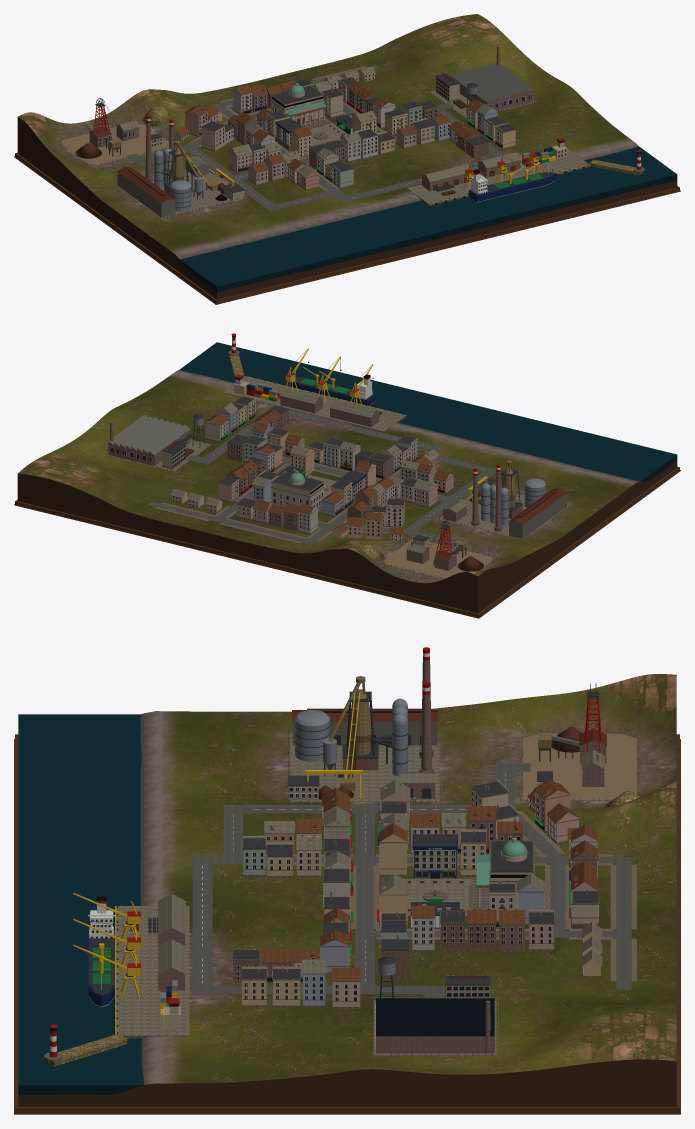
File: makieta.glb
The picture shows the model from 3 angles, top to bottom: view 1: azimuth 30°, elevation 25°; view 2: azimuth 150°, elevation 25°; view 3: azimuth 270°, elevation 25°; orthographic projection. The views are drawn at different scales.
Parts seen in each view (by area): view 1: teren, domy_centrum, morze, cokol, STW, BPT, drogi, MTK, RUD, GIELDA, statek, domy_przedmiescie (+3 smaller); view 2: teren, cokol, domy_centrum, morze, drogi, STW, MTK, BPT, RUD, GIELDA, statek, domy_przedmiescie; view 3: teren, morze, domy_centrum, cokol, drogi, STW, BPT, MTK, RUD, GIELDA, statek, GRS (+3 smaller).
Part boxes in pixels (x1,y1,x2,y2): teren: (18,14,638,259); domy_centrum: (185,76,516,190); morze: (180,146,676,286); cokol: (14,117,680,304); STW: (114,115,247,218); BPT: (407,137,592,206); drogi: (126,65,505,211); MTK: (428,46,538,118); RUD: (56,101,174,166); GIELDA: (270,83,331,129); statek: (468,162,555,202); domy_przedmiescie: (174,66,375,142); teren: (18,370,639,583); cokol: (14,455,680,618); domy_centrum: (205,396,453,539); morze: (179,342,676,481); drogi: (147,410,496,549); STW: (436,460,569,539); MTK: (104,414,213,471); BPT: (223,374,406,431); RUD: (378,527,498,578); GIELDA: (270,470,326,512); statek: (288,367,375,405); domy_przedmiescie: (171,488,404,541); teren: (140,674,676,1084); morze: (18,714,144,1085); domy_centrum: (233,779,599,1008); cokol: (14,734,680,1114); drogi: (192,763,636,998); STW: (287,647,441,802); BPT: (114,894,189,1038); MTK: (372,956,498,1056); RUD: (520,691,636,801); GIELDA: (468,837,534,910); statek: (88,896,115,1007); GRS: (412,834,457,878).
Size of the model in its own units: 404 by 69.2 by 304.
Materials: 49 (23 with a texture image).
